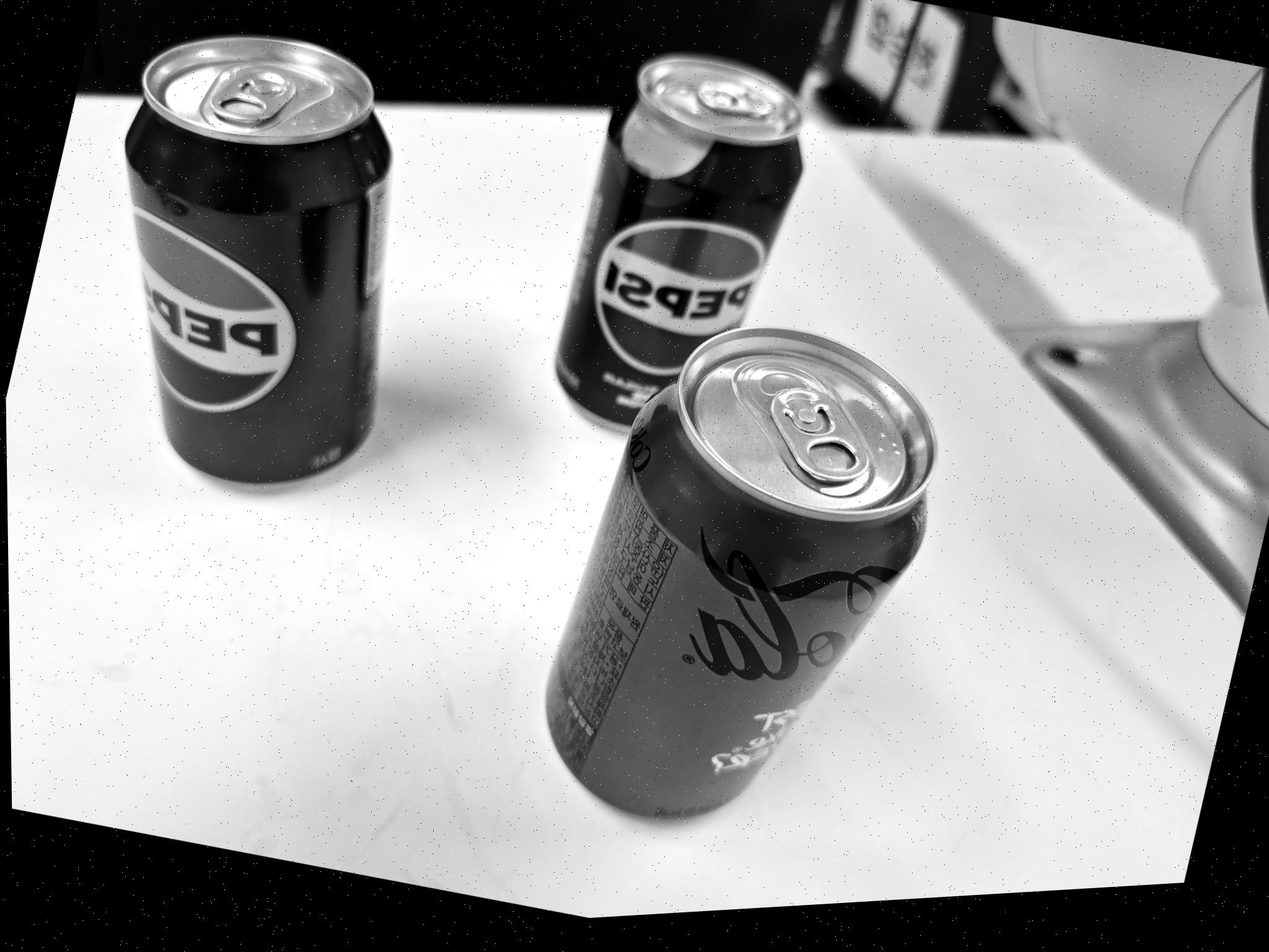can_coke_zero: (537, 331, 933, 826)
can_pepsi: (119, 38, 395, 489)
can_pepsi_zero: (549, 57, 805, 431)
